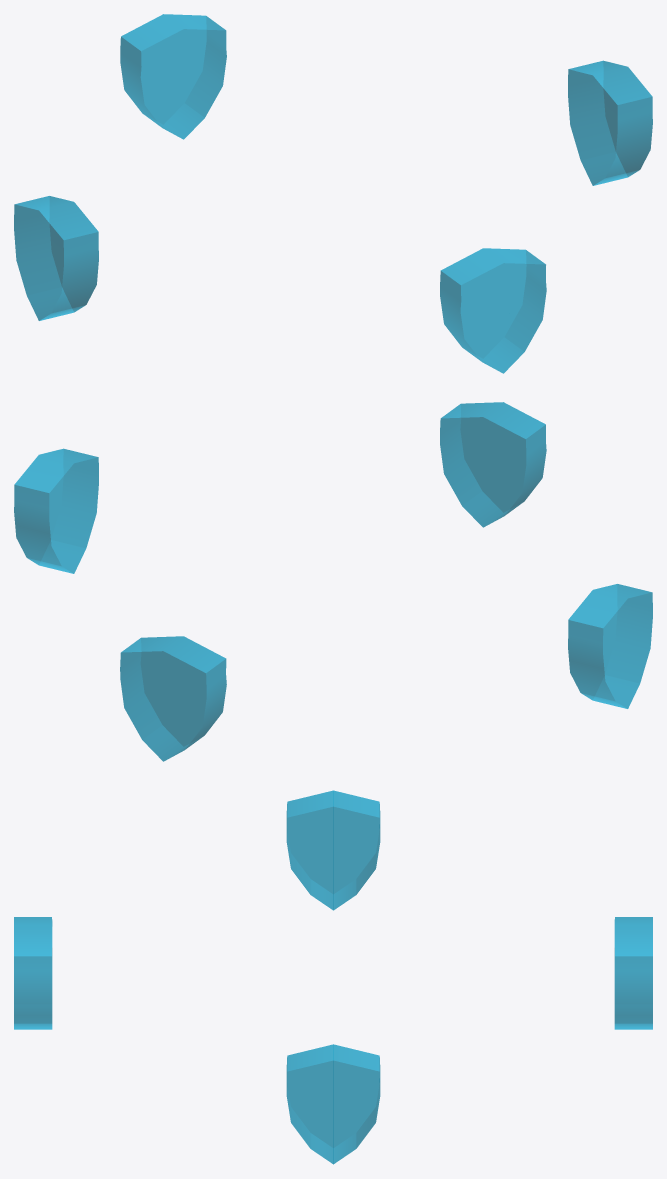
Rendered from Shield.fbx.
The picture shows the model from 3 angles, top to bottom: view 1: azimuth 30°, elevation 25°; view 2: azimuth 150°, elevation 25°; view 3: azimuth 270°, elevation 25°; orthographic projection. The views are drawn at different scales.
Visible parts, largest first — view 1: pCube5 (×2), pCube6 (×2); view 2: pCube5 (×2), pCube6 (×2); view 3: pCube6 (×2), pCube5 (×2).
Part boxes in pixels (x1,y1,x2,y2): pCube5 (×2): [14, 14, 226, 320]; pCube6 (×2): [440, 60, 652, 373]; pCube5 (×2): [120, 584, 652, 761]; pCube6 (×2): [14, 402, 546, 573]; pCube6 (×2): [14, 917, 380, 1164]; pCube5 (×2): [286, 790, 652, 1029].
Size of the model in its own units: 23.4 by 4.2 by 23.4.
